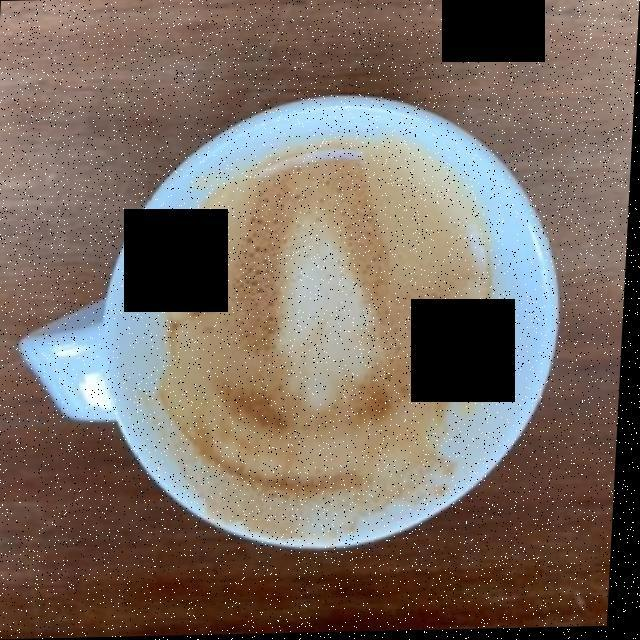coffee: (161, 160, 490, 508)
